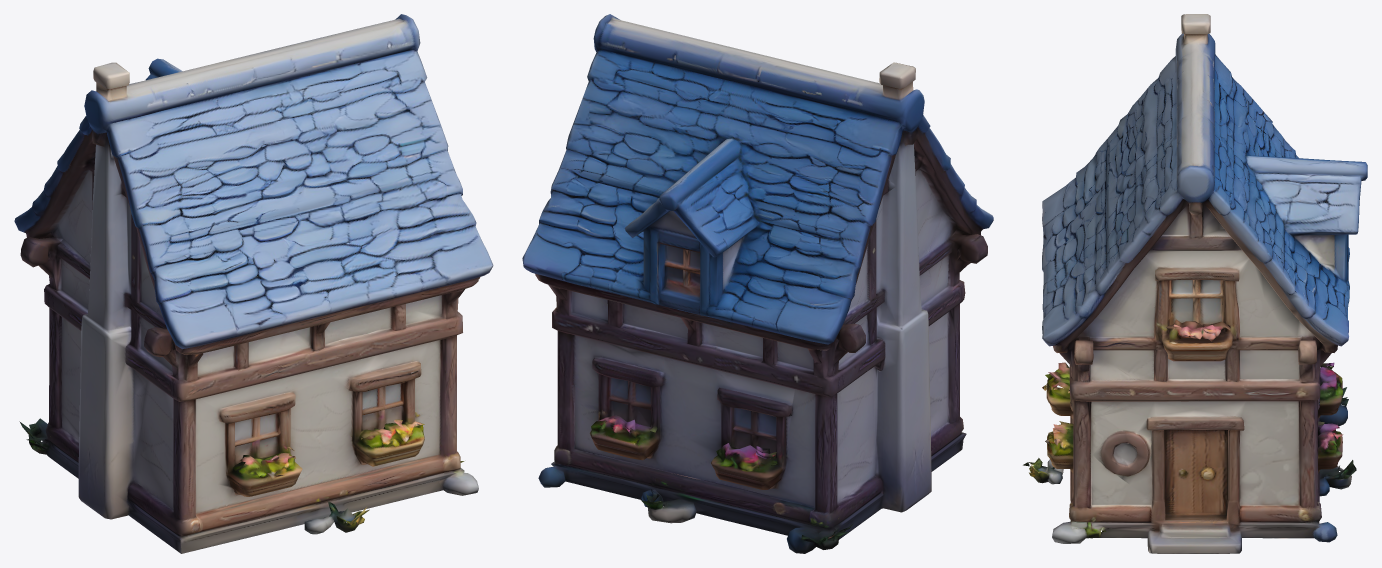
File: stadthaus_blau.glb
3 renders of one model, left to right at view 1: azimuth 30°, elevation 25°; view 2: azimuth 150°, elevation 25°; view 3: azimuth 270°, elevation 25°, orthographic. The views are drawn at different scales.
Visible parts, largest first — view 1: tripo_node_7c5be1f8-00c8-4d8e-9dfb-780689d9079c; view 2: tripo_node_7c5be1f8-00c8-4d8e-9dfb-780689d9079c; view 3: tripo_node_7c5be1f8-00c8-4d8e-9dfb-780689d9079c.
Part boxes in pixels (x1,y1,x2,y2): tripo_node_7c5be1f8-00c8-4d8e-9dfb-780689d9079c: [14, 14, 493, 553]; tripo_node_7c5be1f8-00c8-4d8e-9dfb-780689d9079c: [522, 14, 993, 553]; tripo_node_7c5be1f8-00c8-4d8e-9dfb-780689d9079c: [1023, 14, 1367, 553].
Size of the model in its own units: 0.8154 by 1 by 0.7858.
1 material, 1 textured.
